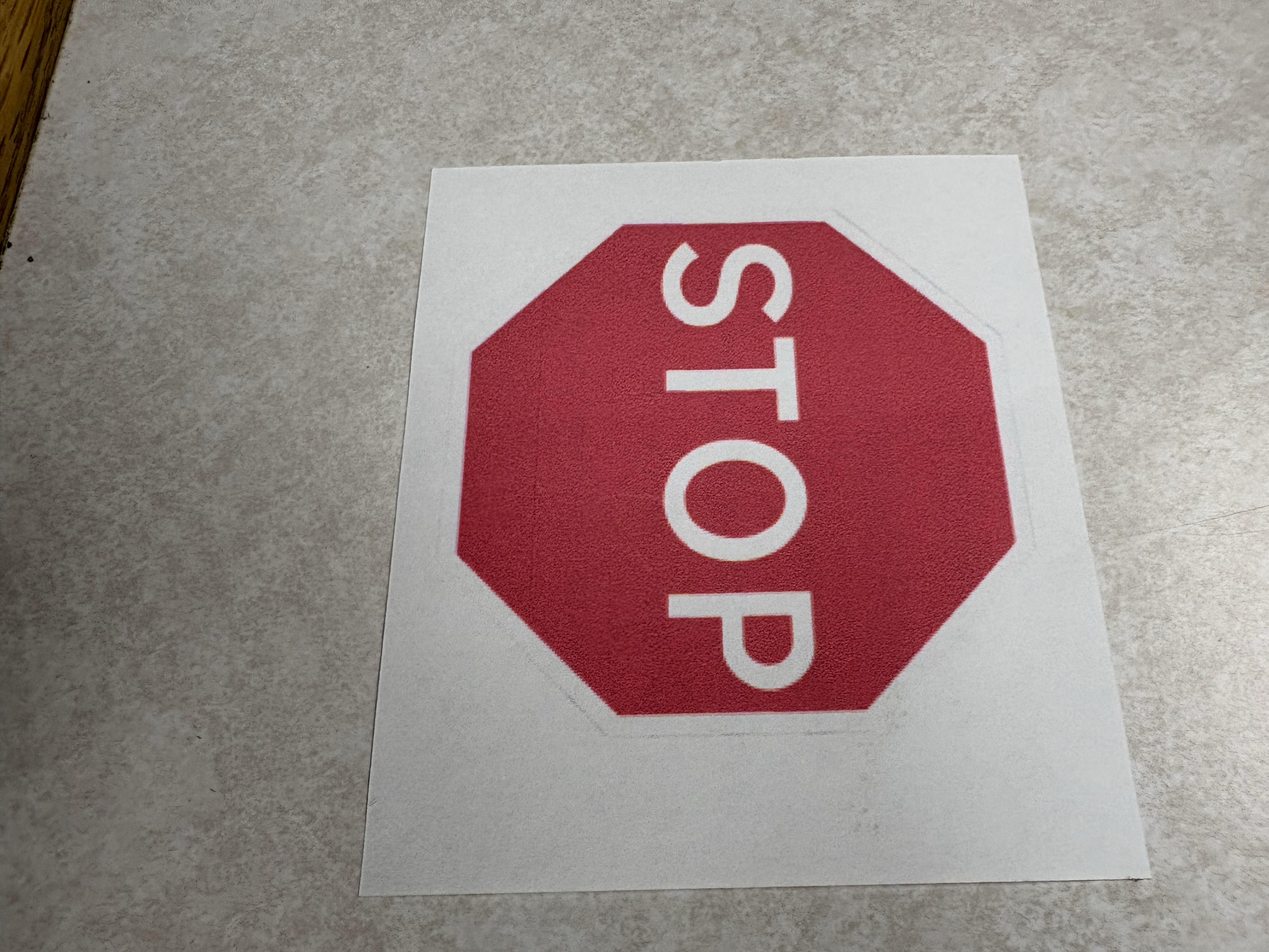Stop: (359, 156, 1151, 897)
